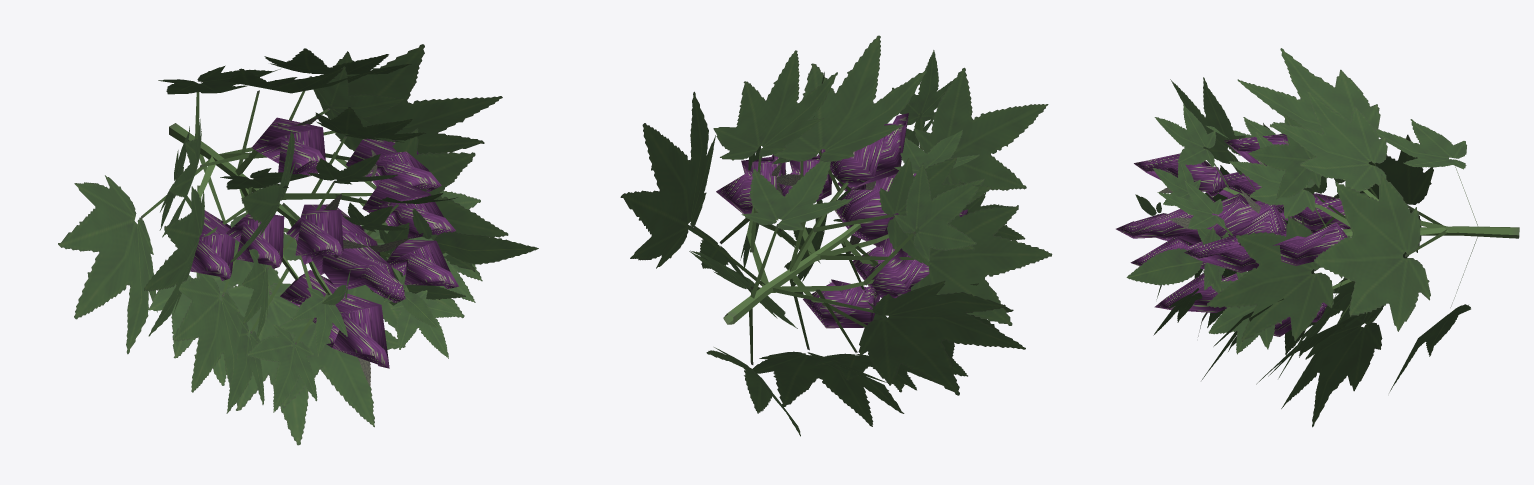
File: p_purple_kush_flowering_c0_cards.obj
3 renders of one model, left to right at view 1: azimuth 30°, elevation 25°; view 2: azimuth 150°, elevation 25°; view 3: azimuth 270°, elevation 25°, orthographic. The views are drawn at different scales.
Size of the model in its own units: 1.71 by 1.43 by 1.33.
1 material, 1 textured.
